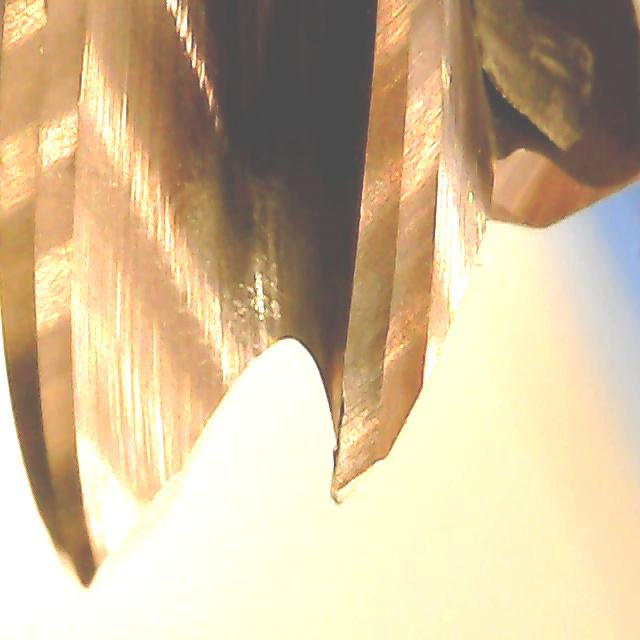Tool-wear-class-1: (302, 265, 443, 510)
